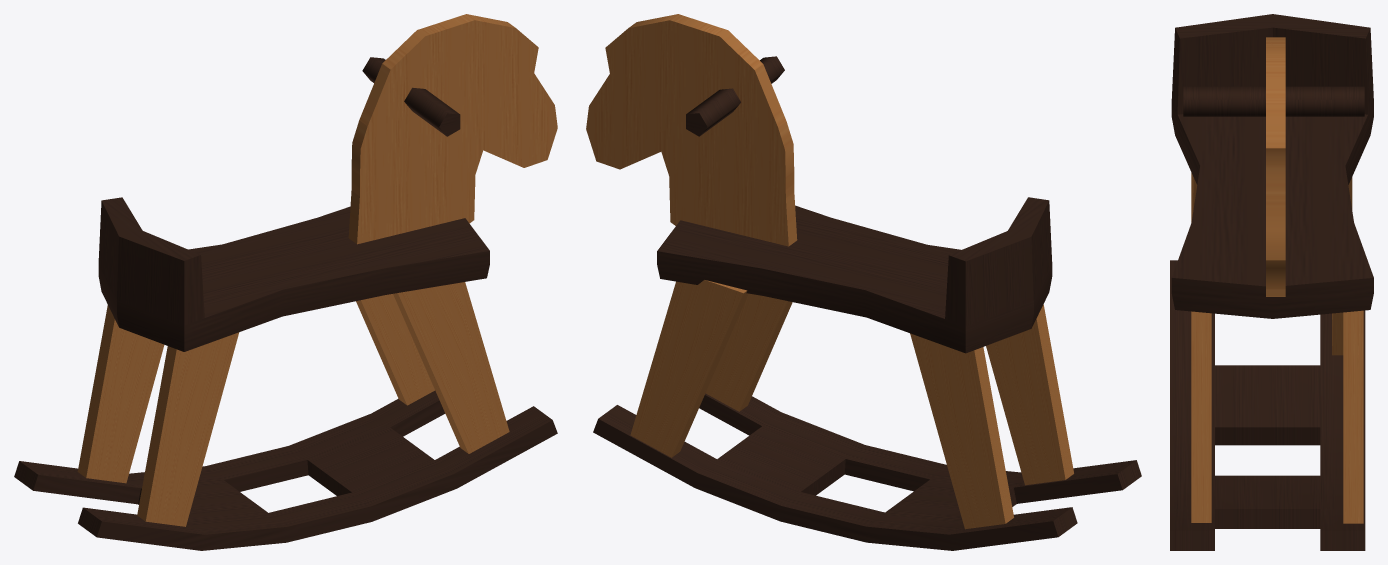
Rendered from Rocking_Horse_D.FBX.
3 renders of one model, left to right at view 1: azimuth 30°, elevation 25°; view 2: azimuth 150°, elevation 25°; view 3: azimuth 270°, elevation 25°, orthographic. The views are drawn at different scales.
Visible parts, largest first — view 1: Rocking_Horse; view 2: Rocking_Horse; view 3: Rocking_Horse.
Part boxes in pixels (x1,y1,x2,y2): Rocking_Horse: (14,14,557,550); Rocking_Horse: (586,14,1141,550); Rocking_Horse: (1170,14,1373,550).
Size of the model in its own units: 170 by 141 by 50.58.
